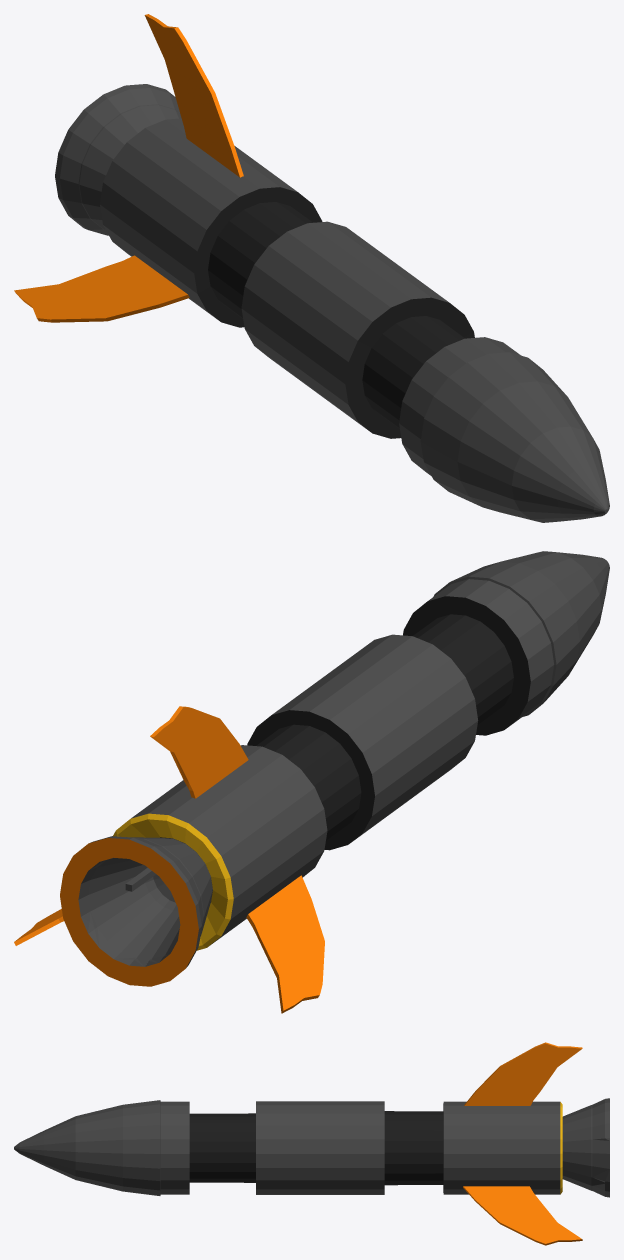
File: rocketz.obj
3 views of the same model, one above another, from view 1: azimuth 30°, elevation 25°; view 2: azimuth 150°, elevation 25°; view 3: azimuth 270°, elevation 25° (orthographic). The views are drawn at different scales.
Parts seen in each view (by area): view 1: cylinder4, user defined5, cube8, cube6; view 2: cylinder4, user defined5, cube8, cube6; view 3: cylinder4, user defined5, cube6, cube7.
Part boxes in pixels (x1,y1,x2,y2): cylinder4: [100, 118, 609, 522]; user defined5: [55, 84, 181, 235]; cube8: [14, 255, 189, 322]; cube6: [144, 14, 243, 177]; cylinder4: [113, 551, 609, 950]; user defined5: [60, 836, 212, 986]; cube8: [246, 875, 324, 1013]; cube6: [150, 706, 248, 798]; cylinder4: [14, 1100, 562, 1195]; user defined5: [562, 1098, 609, 1197]; cube6: [464, 1042, 582, 1105]; cube7: [463, 1186, 582, 1245].
Bounding box in the file's own units: 37.82 × 32.9 × 110.
Materials: 4 (4 with a texture image).
